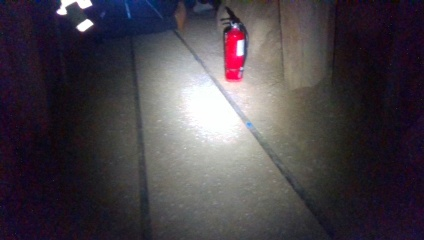fire_extinguisher: (220, 15, 246, 81)
manikin: (55, 3, 186, 46)
